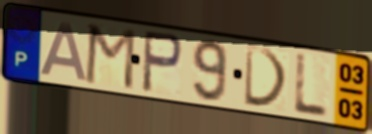9: (190, 37, 230, 105)
A: (37, 19, 90, 84)
D: (243, 43, 291, 110)
L: (291, 51, 331, 120)
M: (82, 22, 138, 93)
P: (140, 28, 185, 96)
